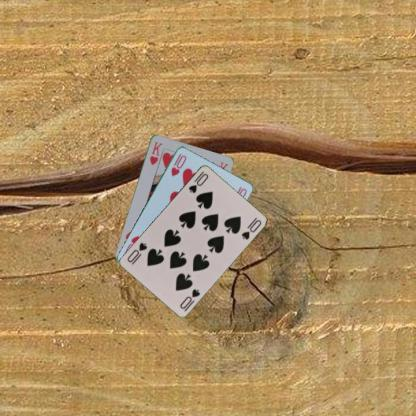10h: (168, 150, 188, 178)
10s: (186, 168, 210, 194), (177, 286, 202, 310)
Kh: (146, 139, 164, 166)
